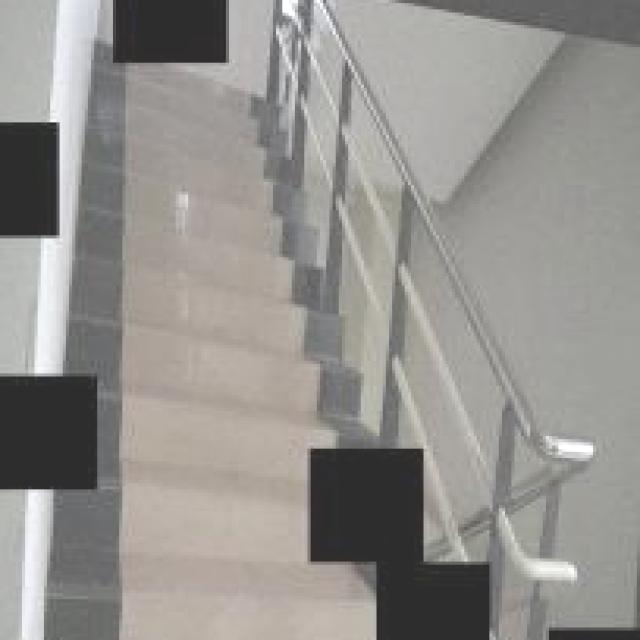upstair: (99, 136, 287, 437)
